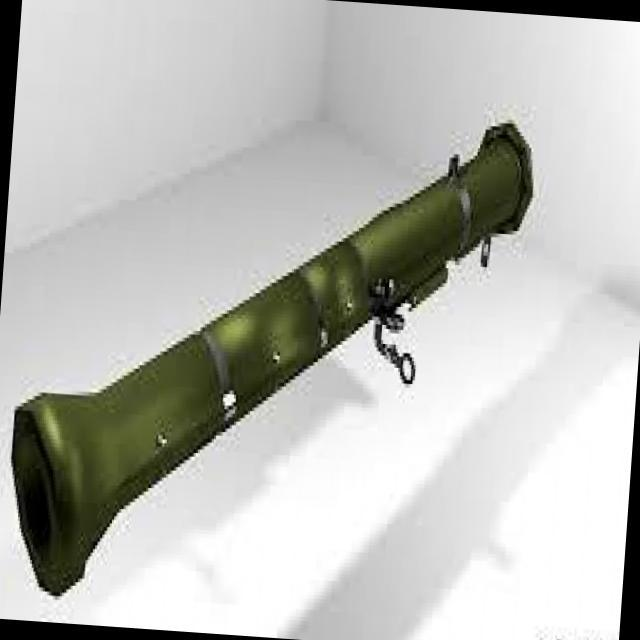rocket: (1, 90, 532, 622)
